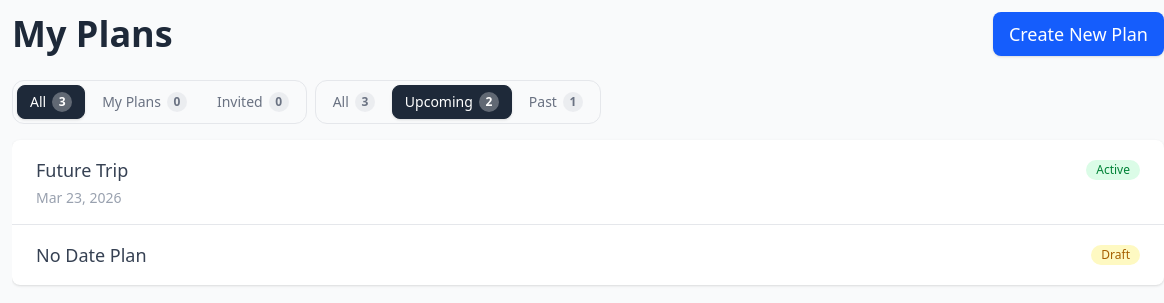
Test case: PlansList › filters to past plans only
The width and height of the screenshot is (1164, 303).
Click the tab with test id "time-filter-past": (556, 102) [516,85,596,119]
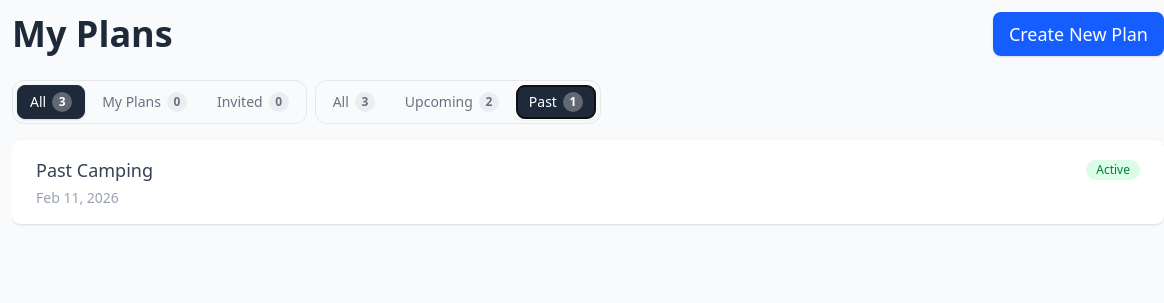
Result: the text "Past Camping" is shown at [36,156,153,184]
Result: the link "Future Trip" is gone
Result: the link "No Date Plan" is gone
